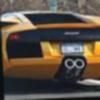License_Plate: (62, 45, 83, 52)
